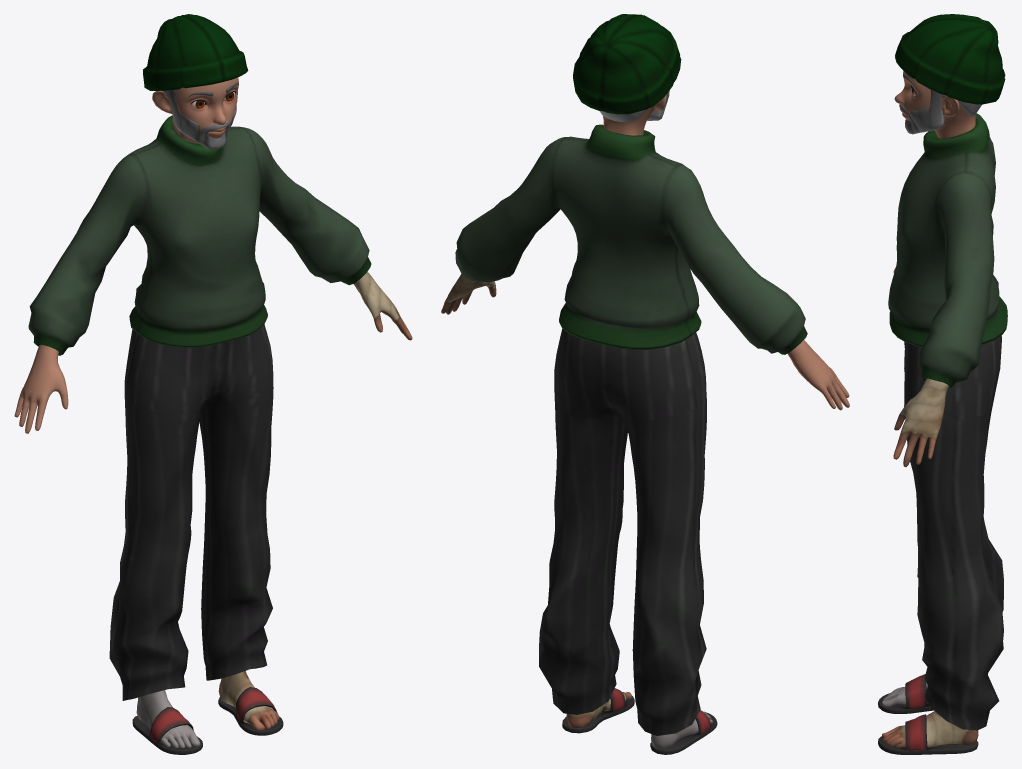
File: Hobobo_Mesh.obj
3 renders of one model, left to right at view 1: azimuth 30°, elevation 25°; view 2: azimuth 150°, elevation 25°; view 3: azimuth 270°, elevation 25°, orthographic. The views are drawn at different scales.
Visible parts, largest first — view 1: Hobobo_Mesh_0; view 2: Hobobo_Mesh_0; view 3: Hobobo_Mesh_0.
Boxes of the visible parts, left/top/right/bottom form: Hobobo_Mesh_0: left=14, top=14, right=412, bottom=754; Hobobo_Mesh_0: left=441, top=14, right=849, bottom=754; Hobobo_Mesh_0: left=878, top=14, right=1007, bottom=754.
Size of the model in its own units: 1.06 by 1.81 by 0.3018.
Materials: 1 (1 with a texture image).
